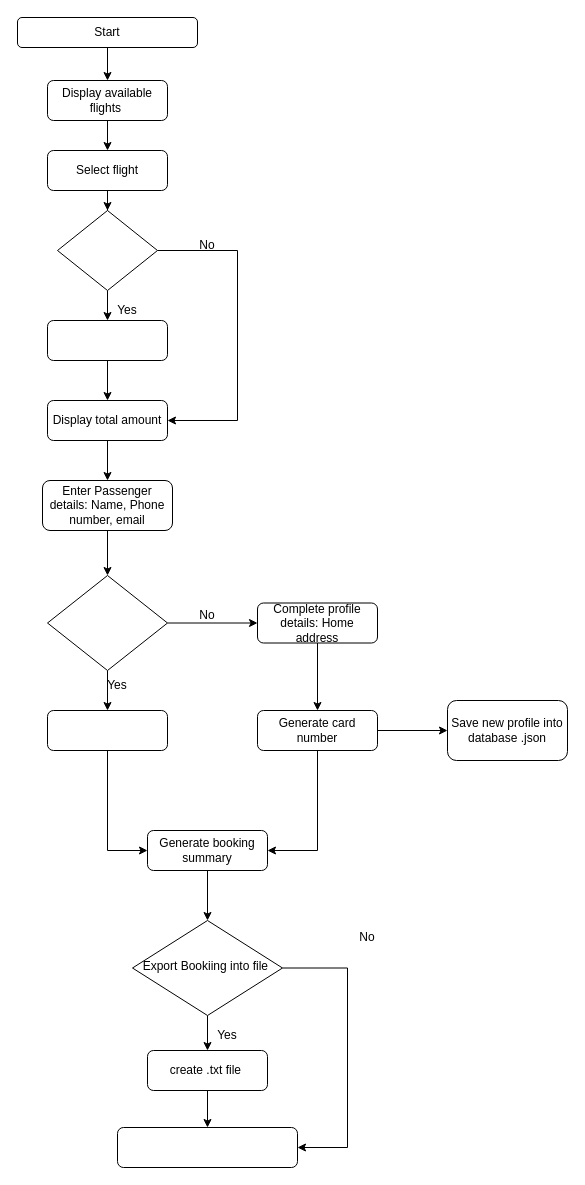
Image size: 585x1185. Some labels were removed from this diagram. The centre of each missing label's shape, as x and y in pixels:
"Add 6000 Yen" goes at (107,340).
"Choose seat" goes at (107,250).
"Enter card number" goes at (107,730).
"Existing Mileage card ?" goes at (107,622).
"Finish" goes at (207,1147).
